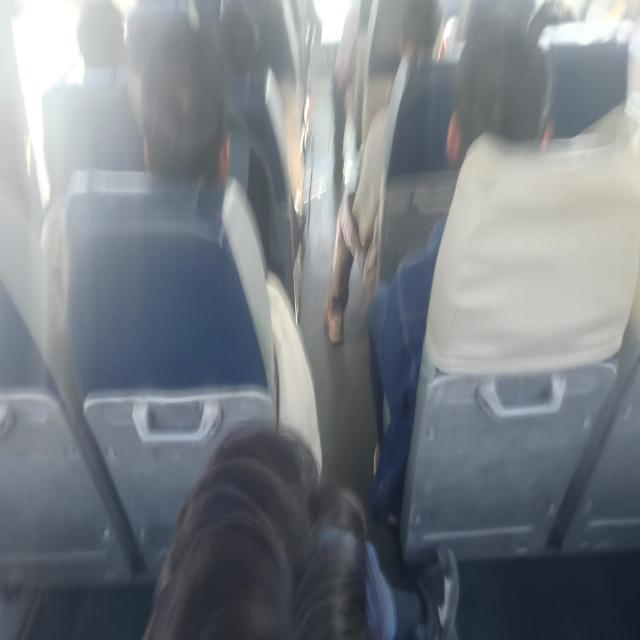person: (136, 422, 385, 640), (453, 38, 553, 170), (142, 38, 216, 184), (514, 0, 612, 60), (201, 12, 270, 84), (72, 9, 130, 78), (390, 5, 450, 64), (0, 96, 32, 203)
